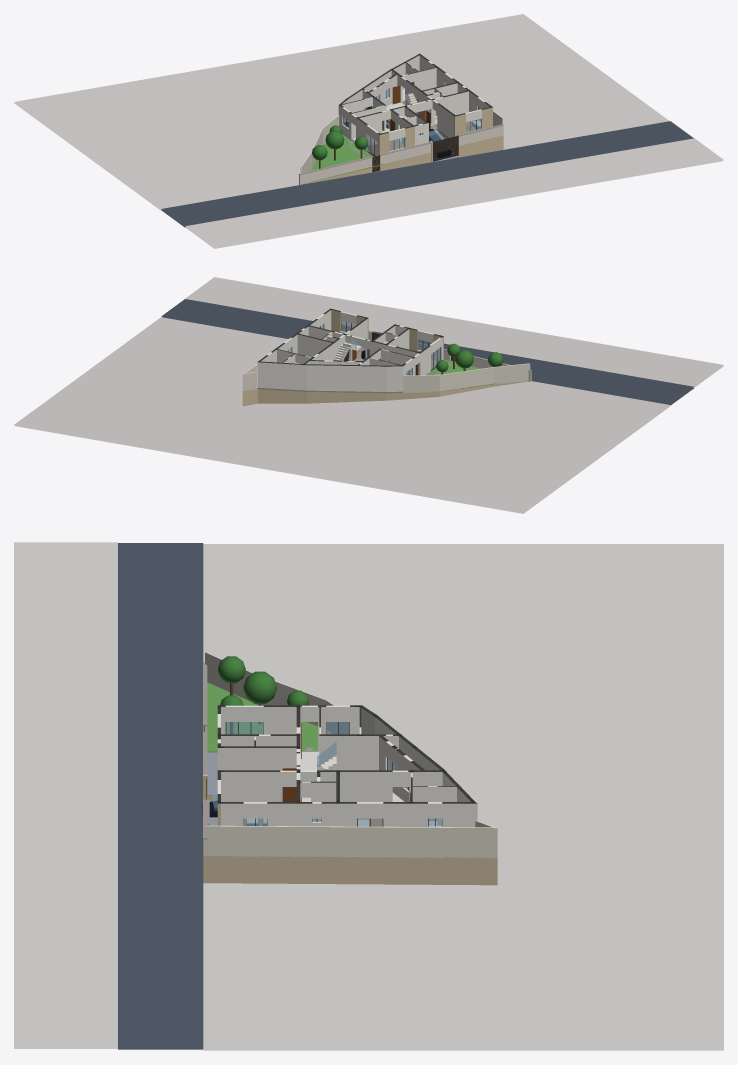
The picture shows the model from 3 angles, top to bottom: view 1: azimuth 30°, elevation 25°; view 2: azimuth 150°, elevation 25°; view 3: azimuth 270°, elevation 25°; orthographic projection. The views are drawn at different scales.
Parts seen in each view (by area): view 1: ground_n, ground_s, road, walls.009, lawn, front_w_wall, walls.012, walls.010, walls.011, walls.003, front_m_wall, walls.007 (+4 smaller); view 2: ground_n, ground_s, road, walls.009, fill, boundary, walls.011, walls.007, walls.003; view 3: ground_n, ground_s, road, boundary.001, fill, walls.009, walls.011, walls.016, walls.003, lawn, walls.014, boundary (+4 smaller).
Boxes of the visible parts, left/top/right/bottom form: ground_n: left=14, top=14, right=669, bottom=210; ground_s: left=185, top=138, right=723, bottom=248; road: left=161, top=121, right=693, bottom=227; walls.009: left=338, top=55, right=427, bottom=132; lawn: left=304, top=133, right=383, bottom=183; front_w_wall: left=299, top=158, right=372, bottom=184; walls.012: left=443, top=88, right=477, bottom=120; walls.010: left=408, top=64, right=445, bottom=90; walls.011: left=405, top=79, right=461, bottom=115; walls.003: left=389, top=106, right=428, bottom=143; front_m_wall: left=379, top=143, right=430, bottom=164; walls.007: left=356, top=112, right=382, bottom=150; ground_n: left=14, top=317, right=669, bottom=513; ground_s: left=185, top=277, right=723, bottom=387; road: left=161, top=299, right=693, bottom=405; walls.009: left=257, top=356, right=406, bottom=391; fill: left=242, top=348, right=528, bottom=406; boundary: left=403, top=363, right=530, bottom=392; walls.011: left=291, top=331, right=340, bottom=360; walls.007: left=395, top=346, right=430, bottom=375; walls.003: left=370, top=325, right=399, bottom=361; ground_n: left=203, top=544, right=723, bottom=1050; ground_s: left=14, top=542, right=117, bottom=1048; road: left=118, top=543, right=203, bottom=1049; boundary.001: left=205, top=820, right=497, bottom=858; fill: left=207, top=795, right=497, bottom=885; walls.009: left=350, top=707, right=477, bottom=827; walls.011: left=311, top=772, right=392, bottom=826; walls.016: left=319, top=736, right=388, bottom=770; walls.003: left=217, top=736, right=296, bottom=793; lawn: left=207, top=682, right=331, bottom=752; walls.014: left=221, top=772, right=280, bottom=801; boundary: left=205, top=651, right=349, bottom=733.
Size of the model in its own units: 67.06 by 7.98 by 45.72.
